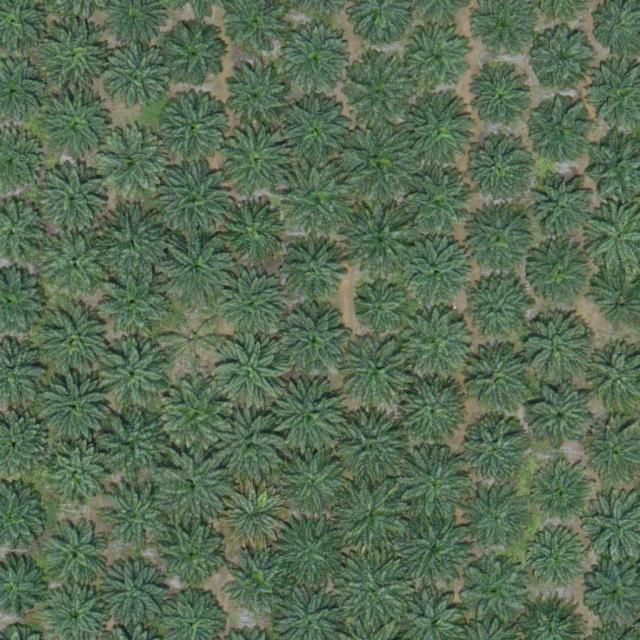Healthy: (34, 21, 112, 100), (41, 89, 119, 168), (396, 167, 474, 246), (343, 203, 421, 282), (333, 479, 411, 558), (336, 553, 414, 632), (31, 157, 109, 236), (400, 95, 471, 166), (226, 62, 297, 133), (159, 91, 230, 162), (464, 205, 535, 276), (272, 379, 343, 450), (41, 226, 112, 297), (95, 409, 166, 480), (94, 207, 165, 278), (220, 125, 291, 196), (155, 519, 226, 590), (405, 24, 475, 95), (343, 59, 413, 130), (281, 30, 351, 101), (283, 94, 353, 165), (525, 241, 595, 312), (522, 317, 592, 388), (463, 279, 533, 350), (401, 239, 471, 310), (402, 377, 472, 448), (343, 336, 413, 407), (457, 553, 527, 624), (397, 449, 467, 520), (401, 515, 472, 585), (334, 414, 405, 484), (274, 516, 344, 587), (41, 370, 111, 441), (100, 342, 171, 412), (98, 126, 168, 197), (161, 163, 231, 234), (160, 380, 231, 450), (215, 410, 285, 481), (216, 334, 286, 405), (220, 274, 290, 345), (282, 162, 352, 233), (280, 306, 350, 377), (104, 47, 174, 117), (464, 135, 534, 205), (461, 347, 531, 417), (401, 309, 471, 379), (344, 128, 414, 198), (280, 448, 350, 518), (43, 304, 113, 374), (98, 269, 168, 339), (162, 233, 232, 303), (158, 454, 228, 524), (101, 482, 171, 552), (164, 24, 227, 87), (462, 417, 525, 480), (525, 529, 588, 592), (534, 26, 596, 89), (472, 70, 535, 132), (527, 102, 589, 165), (534, 175, 596, 238), (528, 384, 590, 447), (528, 462, 590, 525), (48, 446, 110, 509), (284, 237, 346, 300), (104, 560, 166, 623), (46, 528, 108, 591), (466, 487, 528, 549), (222, 201, 284, 263), (230, 555, 285, 610), (355, 285, 402, 332)
Yellow: (219, 483, 290, 553), (162, 309, 225, 372)
